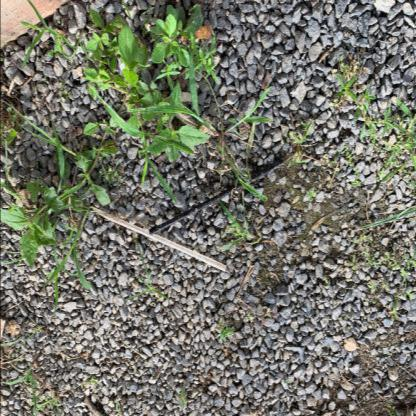Cigarette: (181, 25, 210, 41)
Straw: (150, 159, 284, 236), (92, 207, 226, 272)
